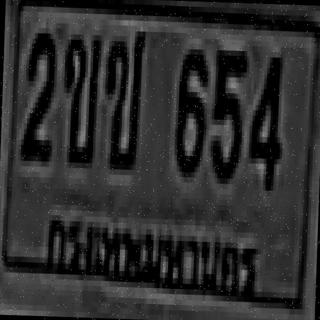A02: (60, 30, 101, 165)
A10: (100, 25, 146, 174)
N02: (20, 29, 55, 158)
N04: (248, 54, 283, 188)
N05: (210, 47, 246, 181)
N06: (176, 46, 208, 175)
P04: (34, 204, 268, 320)
